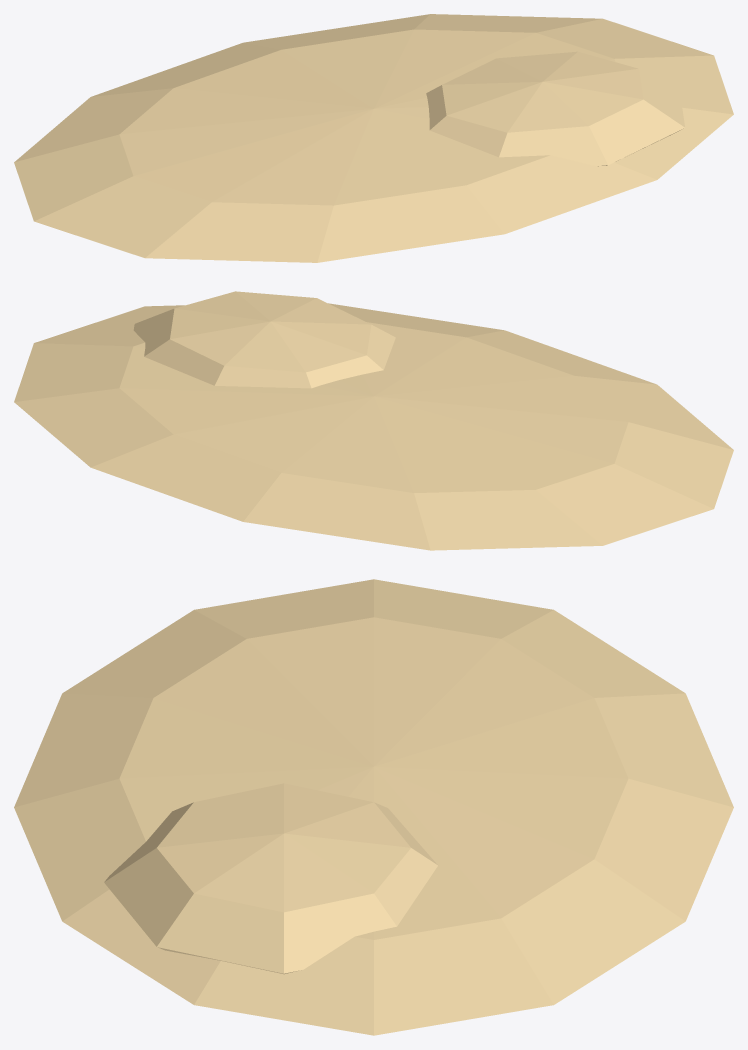
Rendered from dough_puddle.glb.
The picture shows the model from 3 angles, top to bottom: view 1: azimuth 30°, elevation 25°; view 2: azimuth 150°, elevation 25°; view 3: azimuth 270°, elevation 25°; orthographic projection. The views are drawn at different scales.
Visible parts, largest first — view 1: dough_dough; view 2: dough_dough; view 3: dough_dough.
Boxes of the visible parts, bbox=[...] form: dough_dough: bbox=[14, 14, 733, 262]; dough_dough: bbox=[14, 291, 733, 550]; dough_dough: bbox=[14, 579, 733, 1035].
Size of the model in its own units: 0.6 by 0.065 by 0.4.
